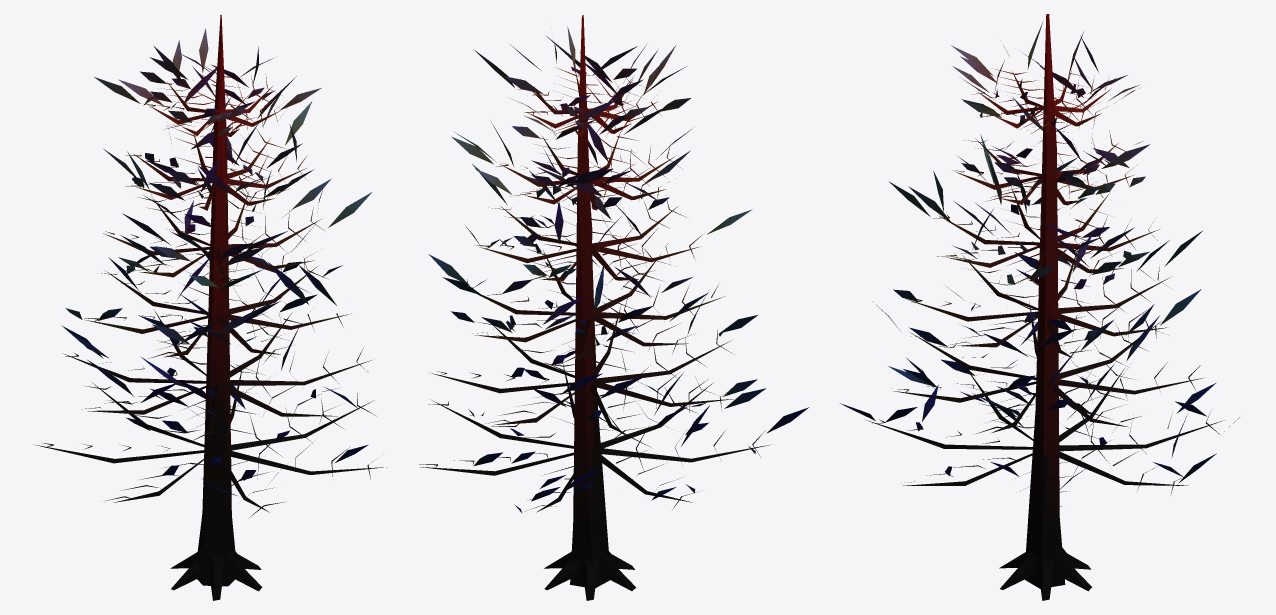
File: Tree_Pino_LOD2.fbx
3 views of the same model, side by side, from view 1: azimuth 30°, elevation 25°; view 2: azimuth 150°, elevation 25°; view 3: azimuth 270°, elevation 25° (orthographic).
Visible parts, largest first — view 1: Tree_Pino_LOD2; view 2: Tree_Pino_LOD2; view 3: Tree_Pino_LOD2.
Part boxes in pixels (left/top/right/bottom): Tree_Pino_LOD2: left=34, top=14, right=386, bottom=600; Tree_Pino_LOD2: left=419, top=15, right=809, bottom=600; Tree_Pino_LOD2: left=840, top=14, right=1239, bottom=600.
Bounding box in the file's own units: 9.1 × 14.64 × 9.88.
